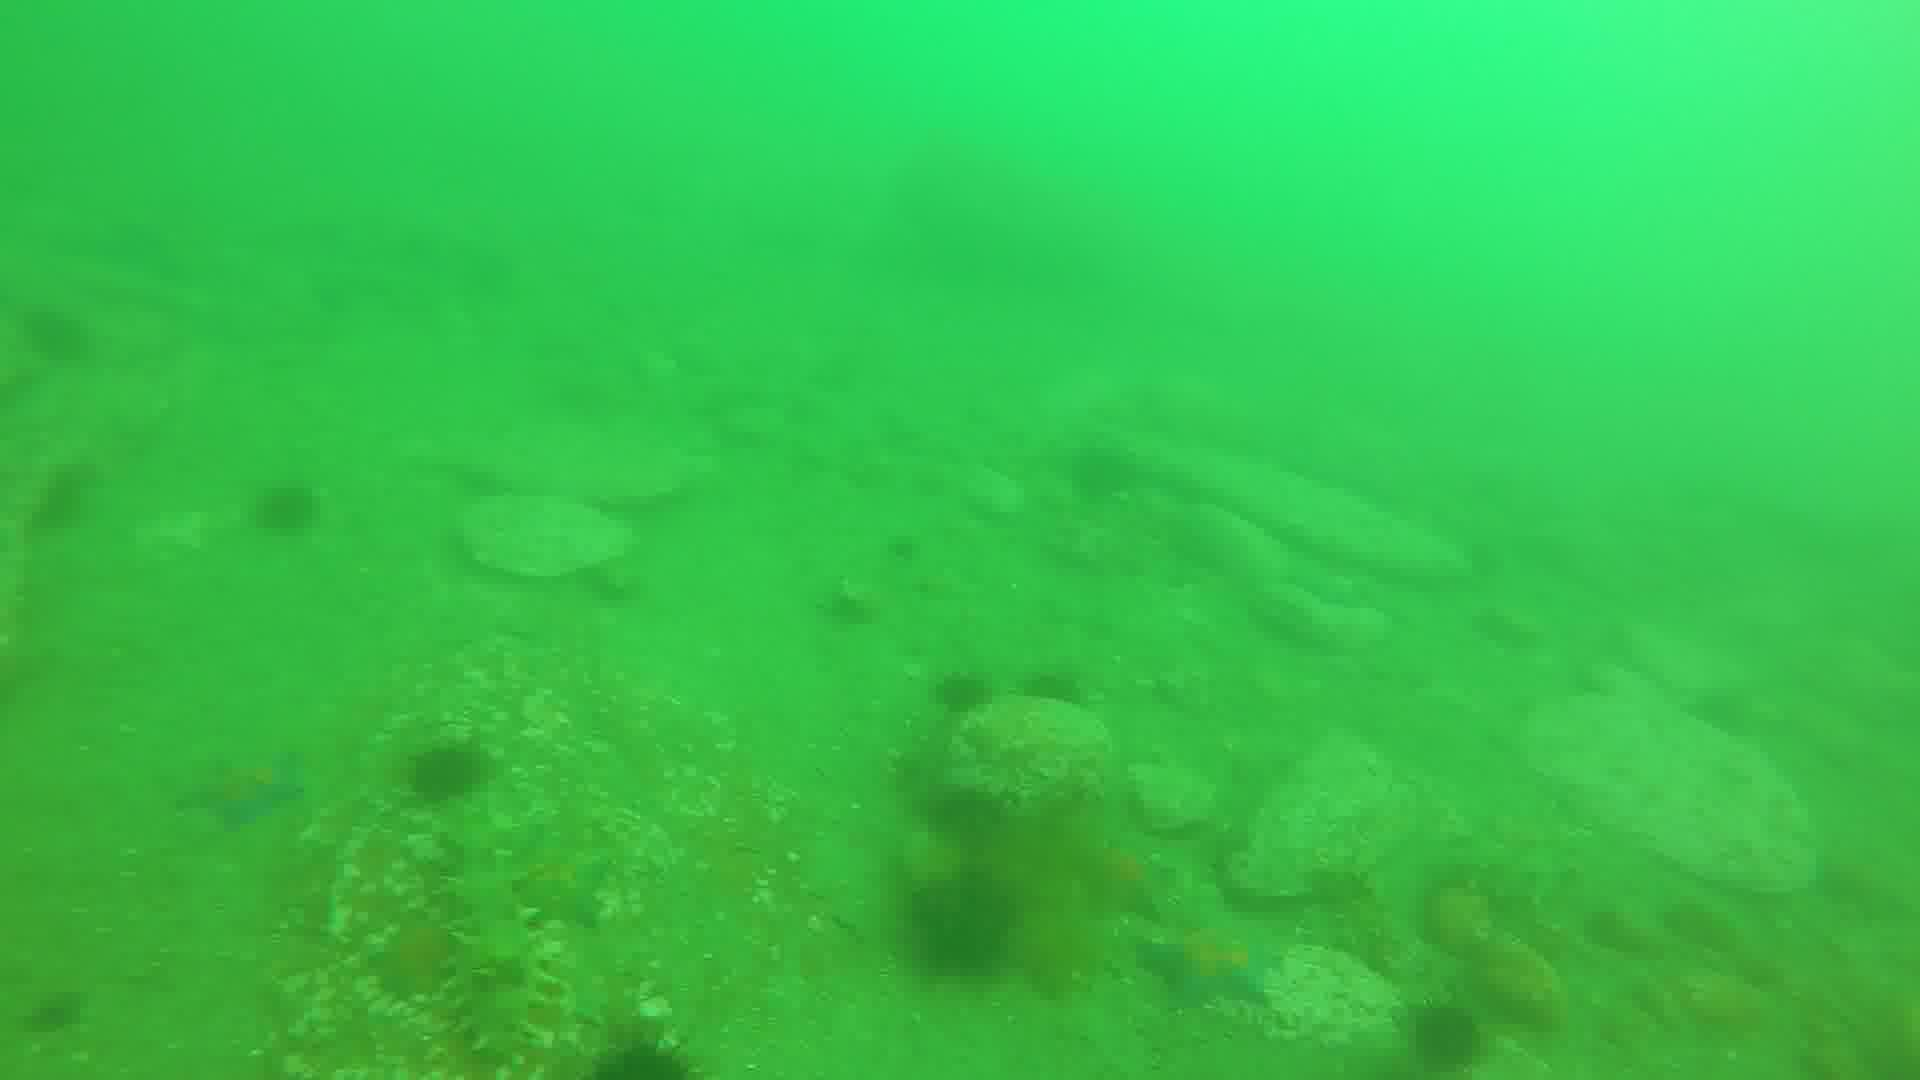echinus: (915, 889, 1007, 982), (587, 1033, 707, 1080), (936, 775, 1015, 845), (1406, 1004, 1476, 1080), (415, 746, 492, 808), (248, 473, 318, 538), (1025, 674, 1088, 721), (943, 675, 978, 715)
holothurian: (444, 849, 556, 1058)
starfish: (1139, 916, 1280, 998), (173, 749, 305, 823), (1079, 833, 1172, 916)
